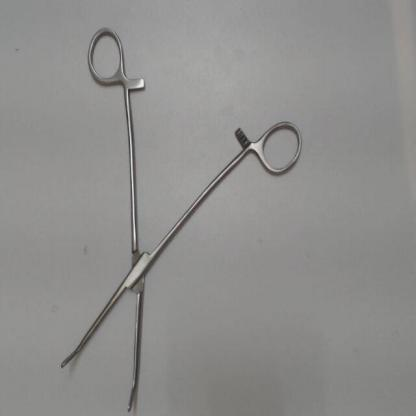Lahey Forceps: (52, 22, 307, 413)
